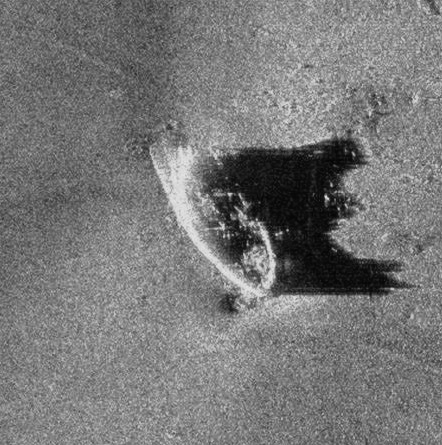ship: (149, 130, 279, 298)
